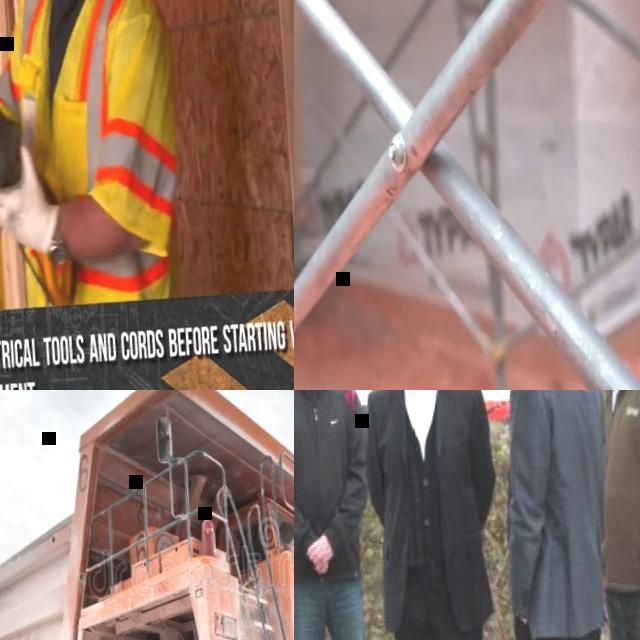NO-Safety Vest: (371, 390, 486, 623), (514, 390, 613, 638), (294, 390, 361, 572), (594, 390, 640, 594)
Person: (0, 0, 191, 310), (352, 390, 517, 640), (488, 390, 631, 640), (294, 390, 390, 640), (577, 390, 640, 640)
Safety Vest: (0, 0, 188, 309)
machinery: (0, 390, 294, 640)
